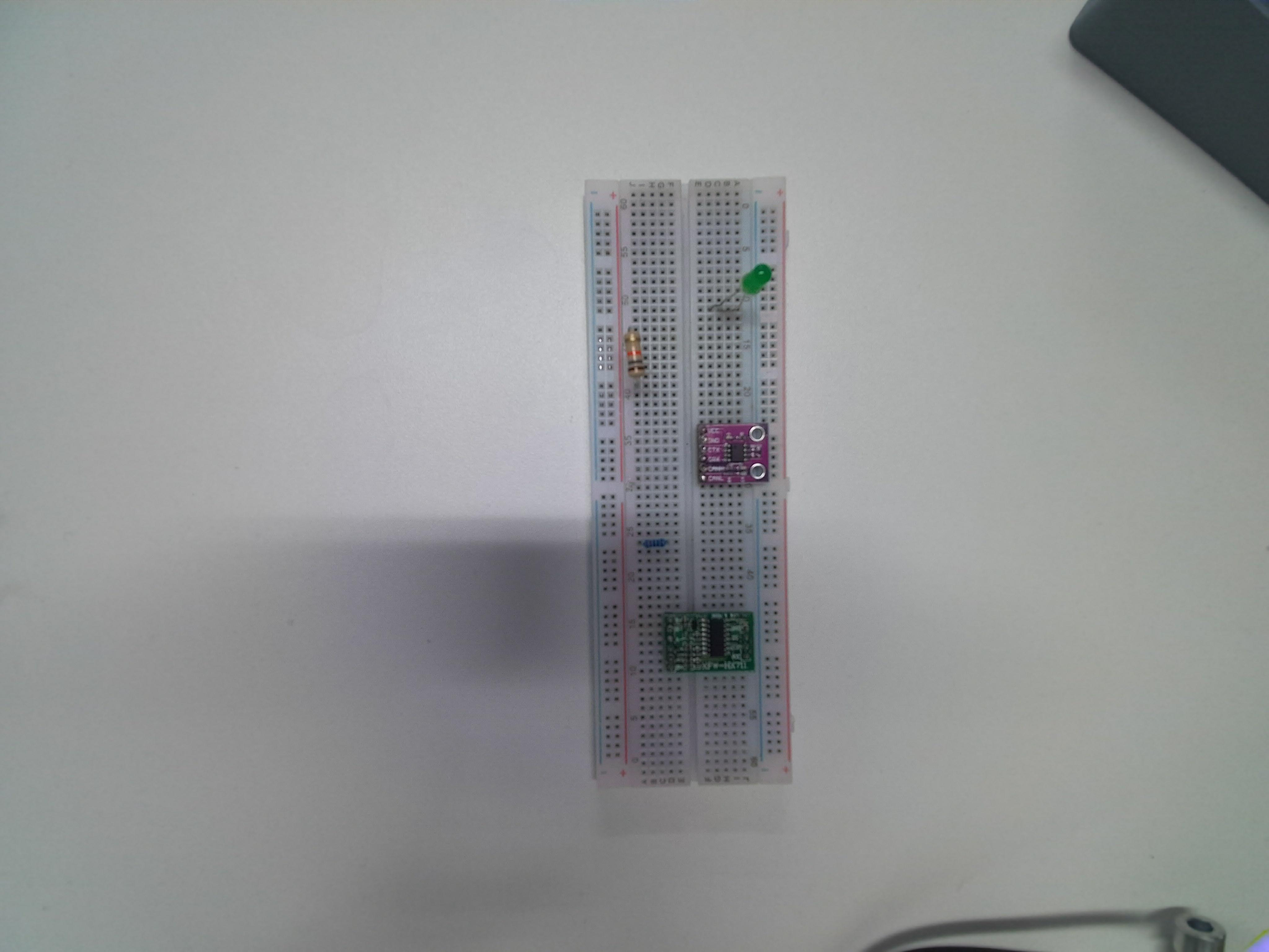base: (580, 174, 795, 796)
green-board: (661, 606, 757, 675)
green-led: (740, 258, 773, 302)
purple-board: (692, 420, 771, 484)
resistor-big: (623, 329, 648, 383)
resistor-small: (638, 535, 669, 551)
